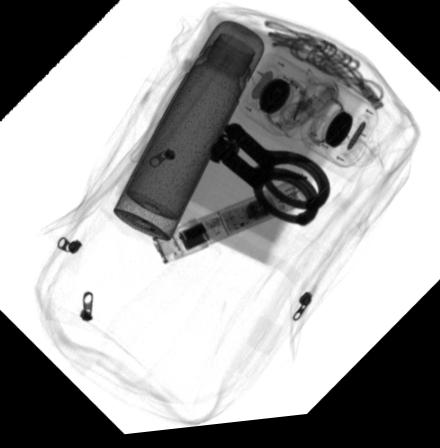Baton: (149, 183, 310, 268)
HandCuffs: (207, 126, 333, 235)
